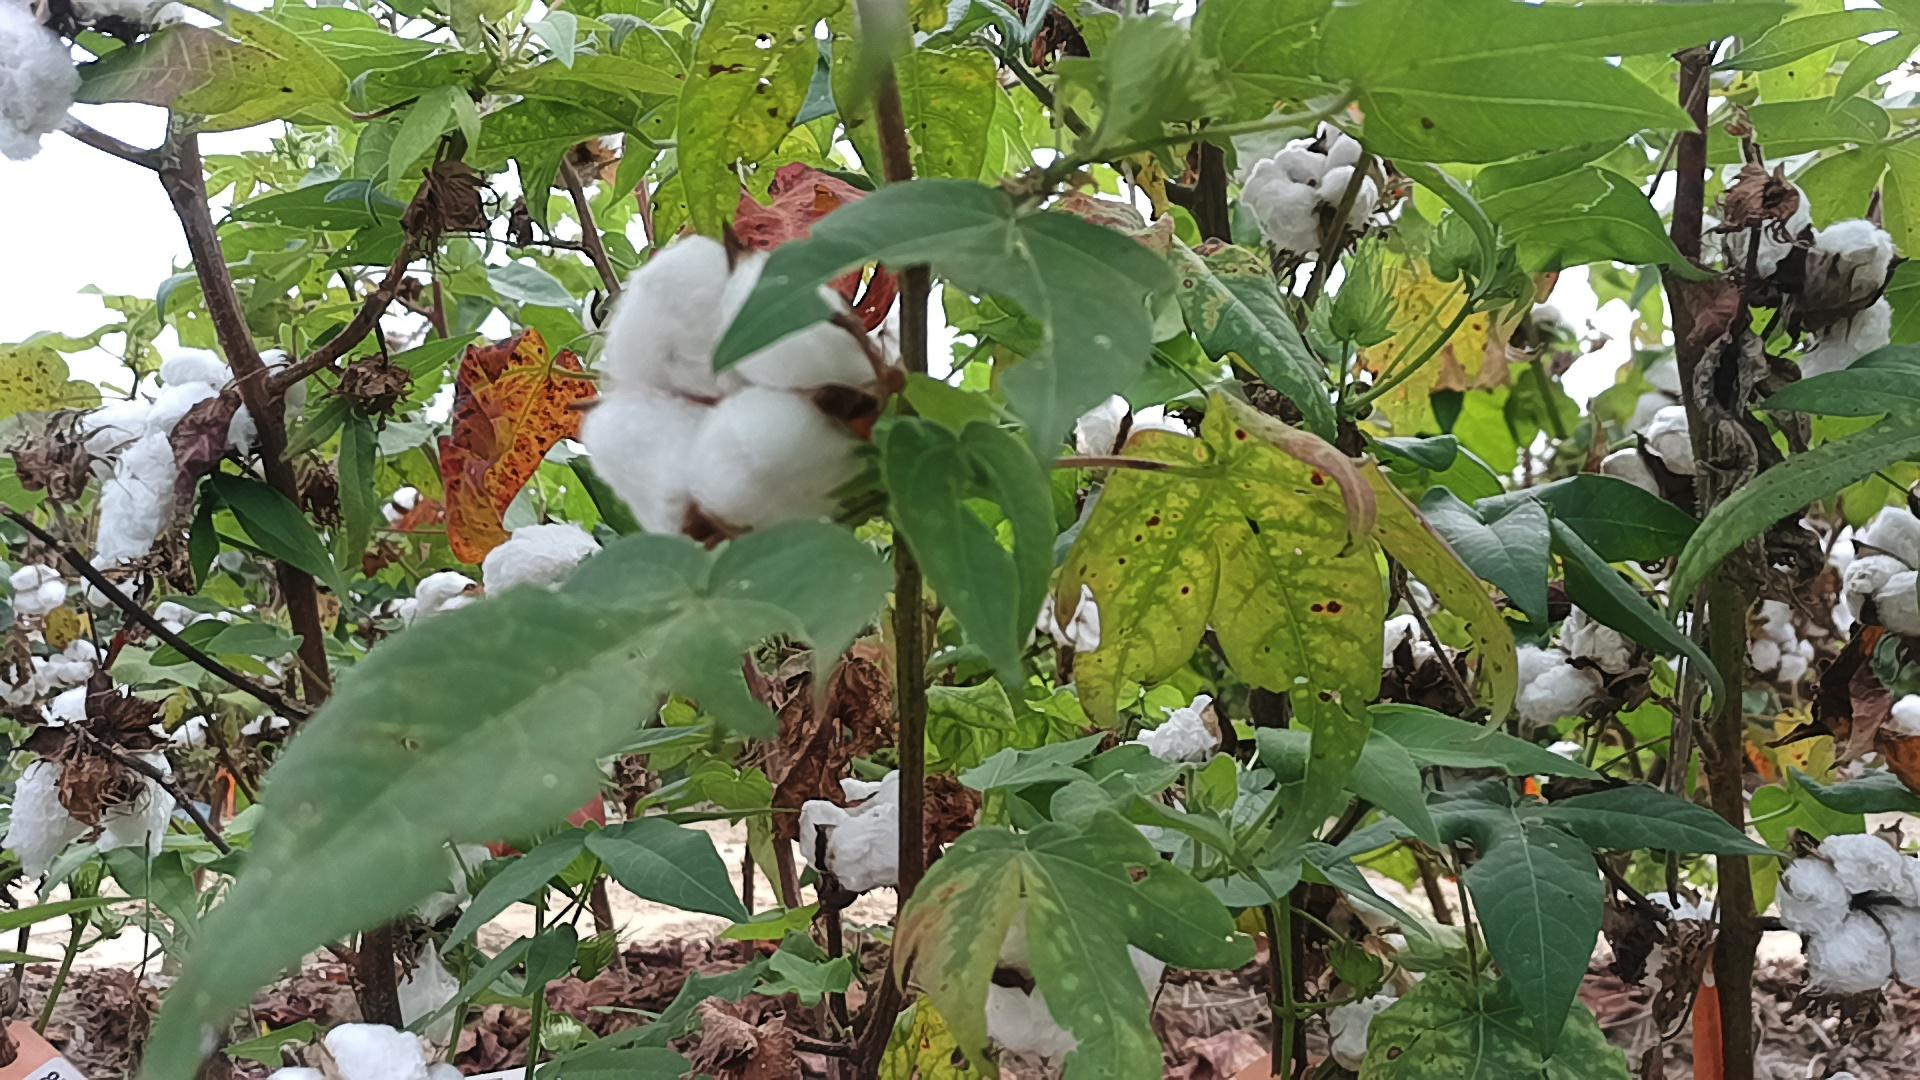cotton_ready: (580, 231, 880, 535), (1, 694, 170, 877), (0, 0, 186, 156), (1775, 832, 1920, 997), (1336, 876, 1457, 1068), (984, 935, 1168, 1059), (398, 840, 491, 1036), (80, 401, 179, 575), (1242, 133, 1378, 256), (148, 345, 293, 458), (1511, 600, 1630, 725), (799, 775, 906, 895), (268, 1026, 476, 1080), (1841, 508, 1920, 641), (484, 526, 600, 613), (1721, 173, 1813, 281), (1598, 407, 1698, 502), (1801, 218, 1895, 309), (1796, 293, 1891, 377), (369, 571, 477, 644), (1378, 613, 1457, 687), (1750, 600, 1816, 687), (1134, 695, 1221, 761)
